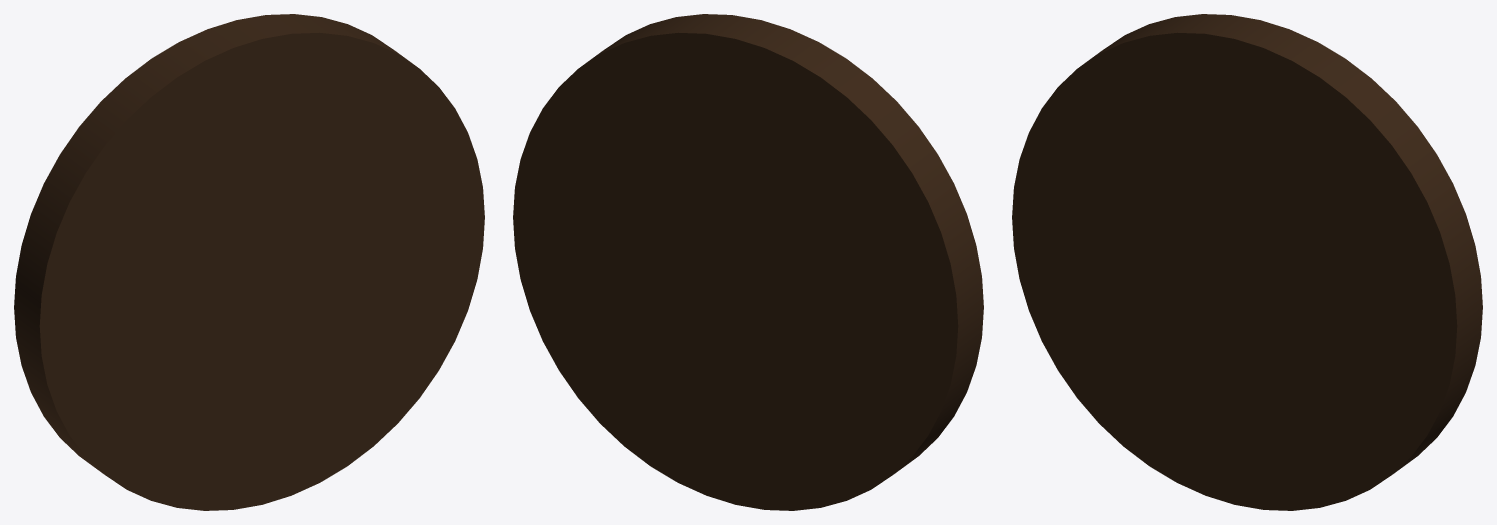
File: clock.glb
3 views of the same model, side by side, from view 1: azimuth 30°, elevation 25°; view 2: azimuth 150°, elevation 25°; view 3: azimuth 330°, elevation 25° (orthographic).
Bounding box in the file's own units: 0.4 × 0.4 × 0.04.
